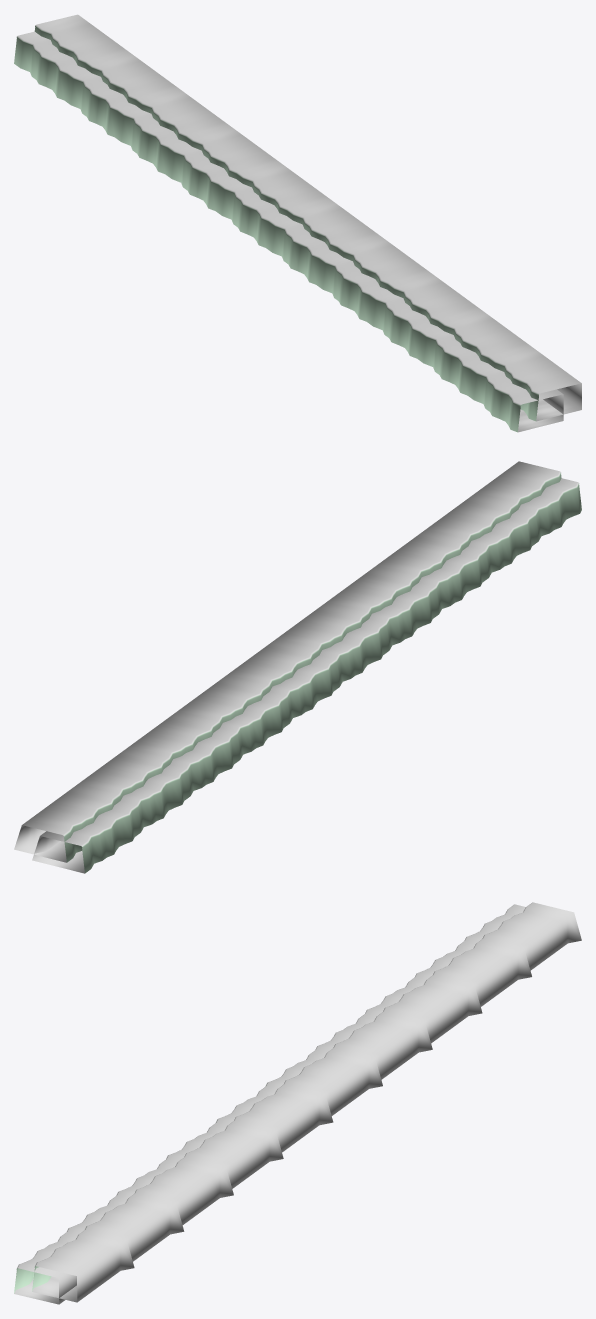
Rendered from Ice Wall.fbx.
3 views of the same model, one above another, from view 1: azimuth 30°, elevation 25°; view 2: azimuth 150°, elevation 25°; view 3: azimuth 330°, elevation 25° (orthographic).
Parts seen in each view (by area): view 1: Cube.019; view 2: Cube.019; view 3: Cube.019.
Part boxes in pixels (left/top/right/bottom): Cube.019: left=14, top=14, right=581, bottom=432; Cube.019: left=14, top=461, right=581, bottom=873; Cube.019: left=14, top=902, right=581, bottom=1304.
Bounding box in the file's own units: 705 × 304 × 8257.
